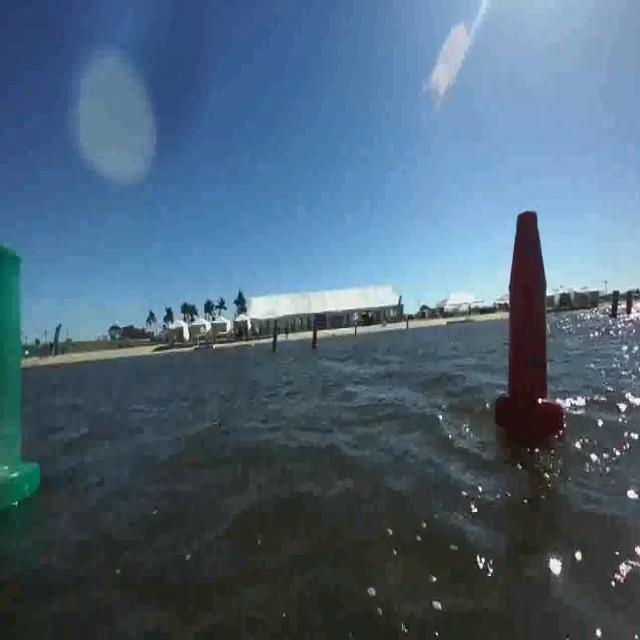green-column-buoy: (0, 241, 39, 502), (610, 288, 623, 320)
red-column-buoy: (494, 202, 564, 444), (624, 289, 636, 318), (311, 324, 320, 350)
